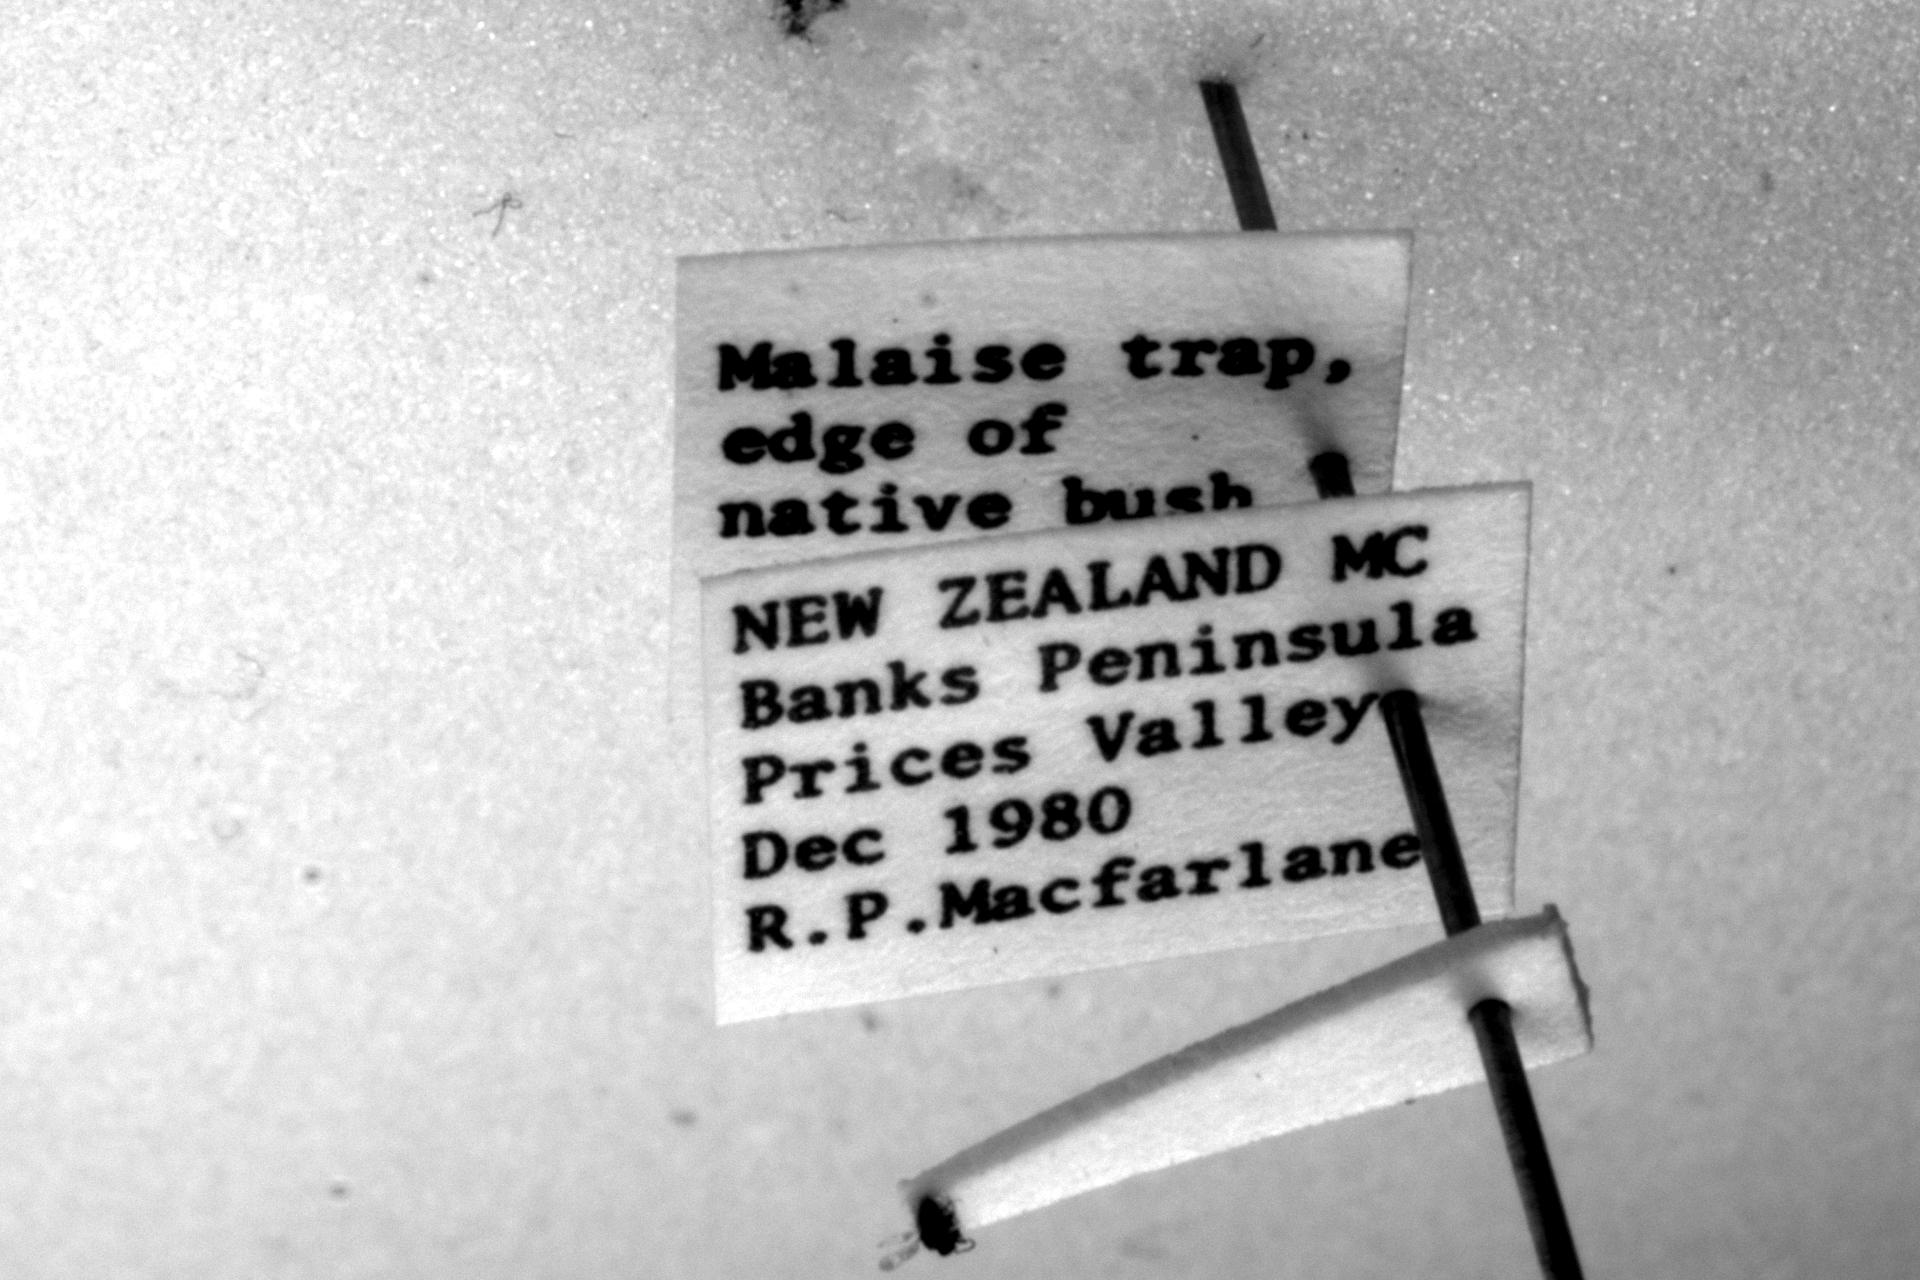typed_label: (701, 484, 1530, 1024), (671, 232, 1410, 716)
